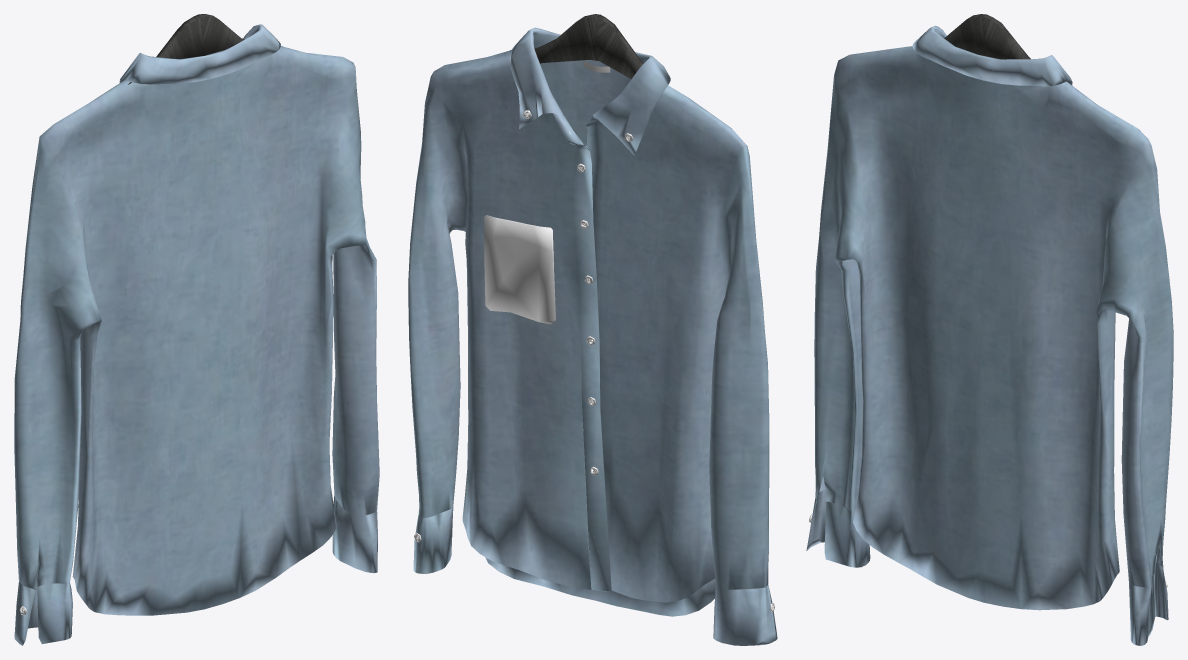
Rendered from hvtop_Clothes_06.glb.
3 views of the same model, side by side, from view 1: azimuth 30°, elevation 25°; view 2: azimuth 150°, elevation 25°; view 3: azimuth 330°, elevation 25° (orthographic).
Visible parts, largest first — view 1: BP_Clothes_06; view 2: BP_Clothes_06; view 3: BP_Clothes_06.
Boxes of the visible parts, left/top/right/bottom form: BP_Clothes_06: left=14, top=14, right=379, bottom=645; BP_Clothes_06: left=408, top=14, right=777, bottom=645; BP_Clothes_06: left=806, top=14, right=1173, bottom=645.
Bounding box in the file's own units: 0.5053 × 0.8091 × 0.1035.
3 materials, 2 textured.
